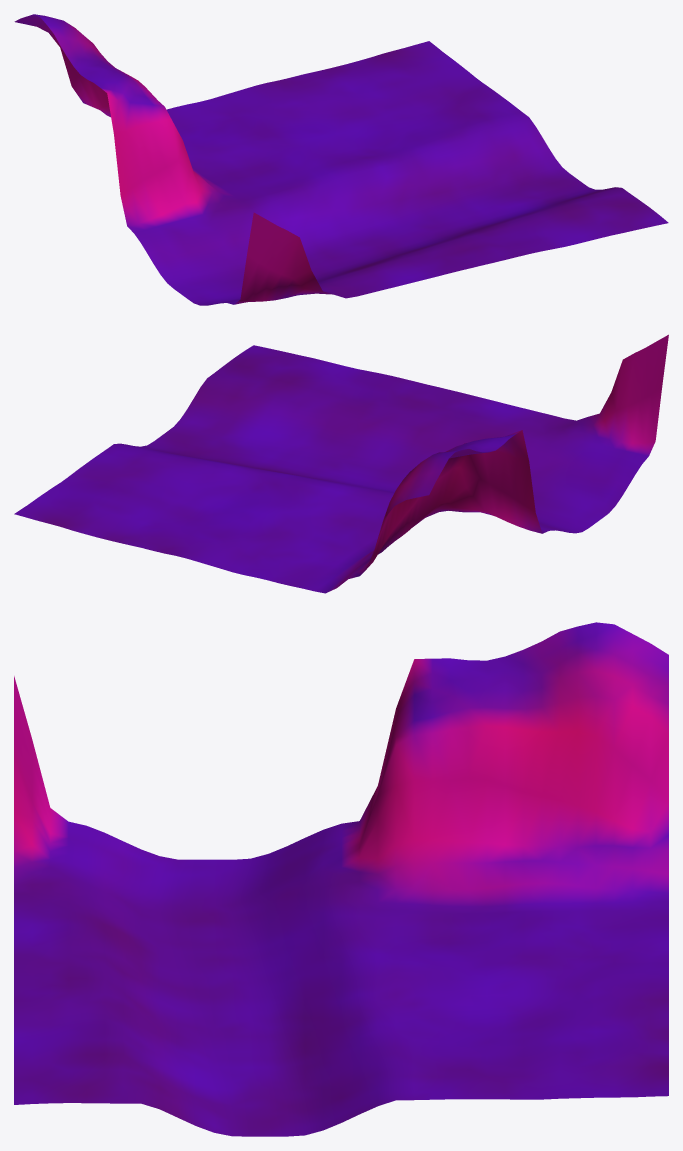
File: ground_30.glb
The picture shows the model from 3 angles, top to bottom: view 1: azimuth 30°, elevation 25°; view 2: azimuth 150°, elevation 25°; view 3: azimuth 270°, elevation 25°; orthographic projection. The views are drawn at different scales.
Parts seen in each view (by area): view 1: Ground_30; view 2: Ground_30; view 3: Ground_30.
Boxes of the visible parts, <box> form: Ground_30: <box>14,14,668,305</box>; Ground_30: <box>14,334,668,593</box>; Ground_30: <box>14,622,668,1136</box>.
Size of what is drawn, in the model's own units: 36 by 14.4 by 36.
